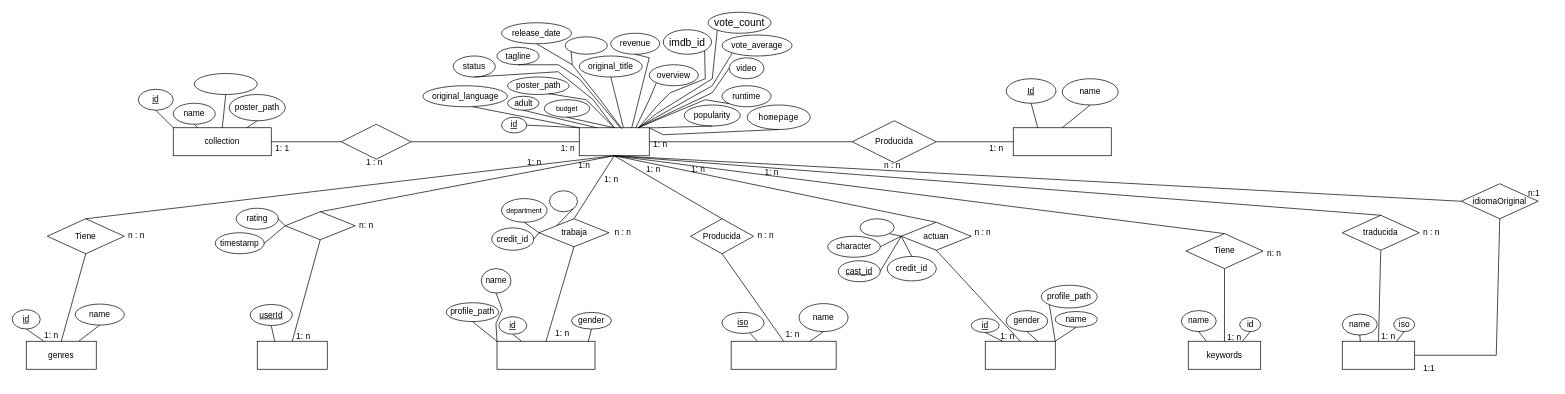
Image size: 1565x394. Some labels were removed from this diagram. The shapes that lost their labels are listed below. From the top down, each one's centre as x and y in pixels, then its label:
At [586,45]: "title".
At [225,83]: "backdrop_path".
At [376,141]: "Pertenece".
At [614,141]: "Movie".
At [1062,141]: "companies".
At [563,201]: "job".
At [320,225]: "califica".
At [876,227]: "order".
At [292,355]: "user".
At [545,355]: "personnel".
At [783,355]: "countries".
At [1020,355]: "actors".
At [1378,355]: "languages".
